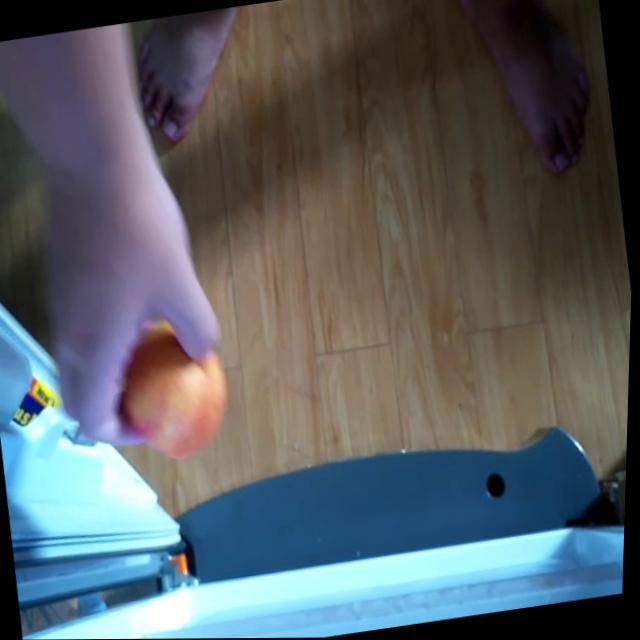apple: (105, 321, 241, 469)
